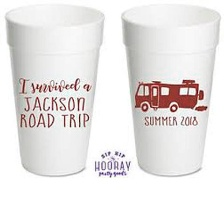paper_cup: (0, 0, 108, 180), (116, 0, 223, 178)
